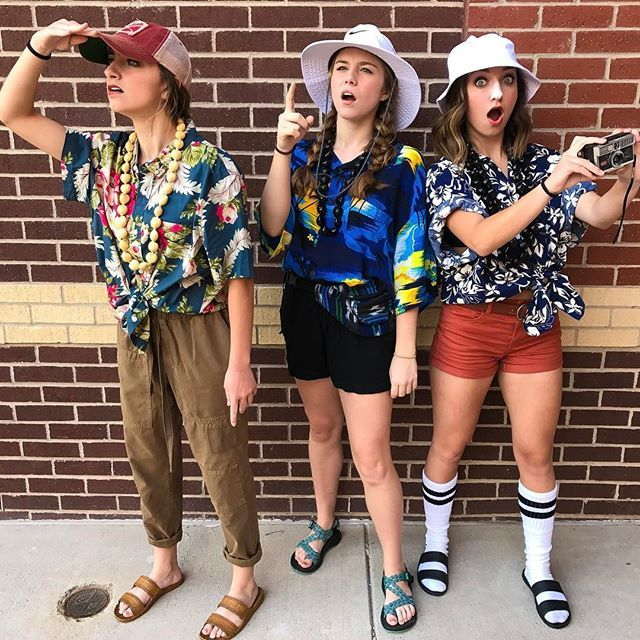Person: (1, 17, 262, 640), (419, 33, 640, 633), (262, 23, 425, 632)
